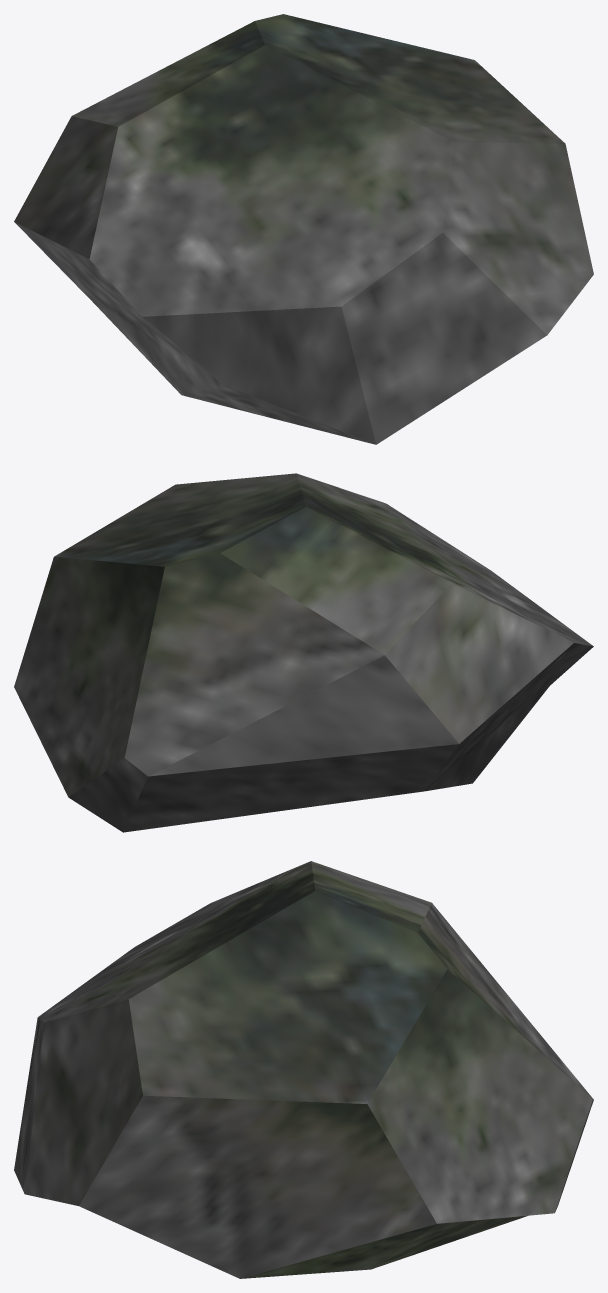
The model's file is rock_med_02.glb.
3 views of the same model, one above another, from view 1: azimuth 30°, elevation 25°; view 2: azimuth 150°, elevation 25°; view 3: azimuth 270°, elevation 25° (orthographic). The views are drawn at different scales.
Visible parts, largest first — view 1: mediun rock; view 2: mediun rock; view 3: mediun rock.
Boxes of the visible parts, x1,y1,x2,y2 form: mediun rock: (14,14,593,444); mediun rock: (14,473,593,832); mediun rock: (14,861,593,1278).
Bounding box in the file's own units: 2.04 × 1.19 × 2.09.
1 material, 1 textured.
